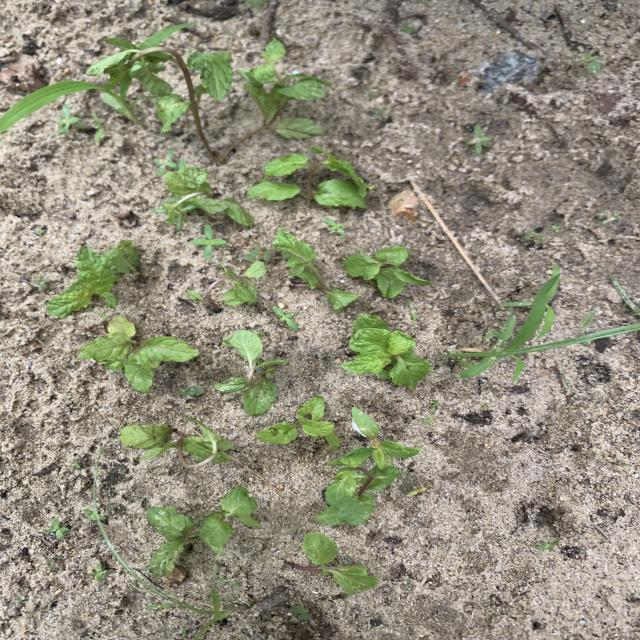crop: (88, 24, 231, 132), (319, 406, 419, 523), (147, 487, 259, 577), (77, 316, 198, 391), (237, 39, 327, 139), (249, 148, 370, 207), (49, 241, 139, 317), (341, 314, 431, 387), (274, 229, 355, 310), (155, 162, 252, 228), (216, 330, 290, 415), (289, 532, 377, 594), (121, 417, 233, 465), (345, 246, 430, 297), (188, 262, 263, 310), (257, 397, 330, 443)
weed: (454, 277, 639, 379), (96, 521, 230, 639), (0, 81, 111, 131), (192, 224, 227, 258), (465, 124, 491, 154), (155, 150, 182, 175), (58, 104, 81, 133), (272, 306, 298, 330), (577, 52, 601, 74), (244, 247, 272, 265), (47, 518, 69, 539), (88, 563, 110, 580), (421, 401, 436, 423), (511, 355, 523, 382), (326, 218, 345, 235), (290, 605, 311, 620), (524, 229, 543, 244), (93, 114, 103, 142), (537, 540, 558, 550), (219, 577, 239, 587), (181, 386, 203, 395), (34, 277, 49, 290), (47, 557, 61, 568), (409, 300, 416, 320), (407, 488, 426, 495)
